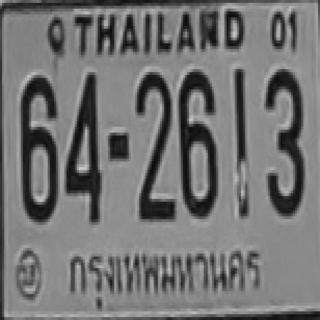N01: (234, 66, 246, 185), (233, 66, 245, 170)
N02: (134, 71, 172, 206)
N03: (264, 66, 304, 213)
N04: (64, 69, 100, 222)
N06: (176, 71, 216, 215), (19, 74, 56, 220)
P04: (63, 243, 267, 307)
